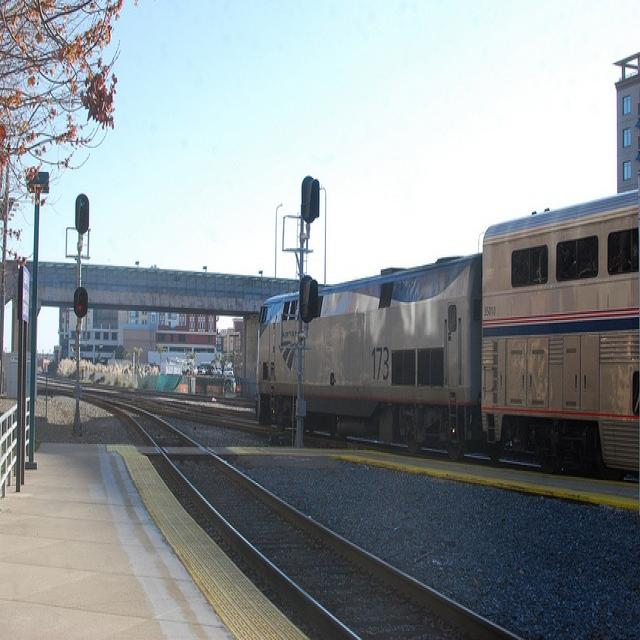pole: (24, 190, 46, 466), (291, 217, 309, 446), (70, 232, 86, 430)
